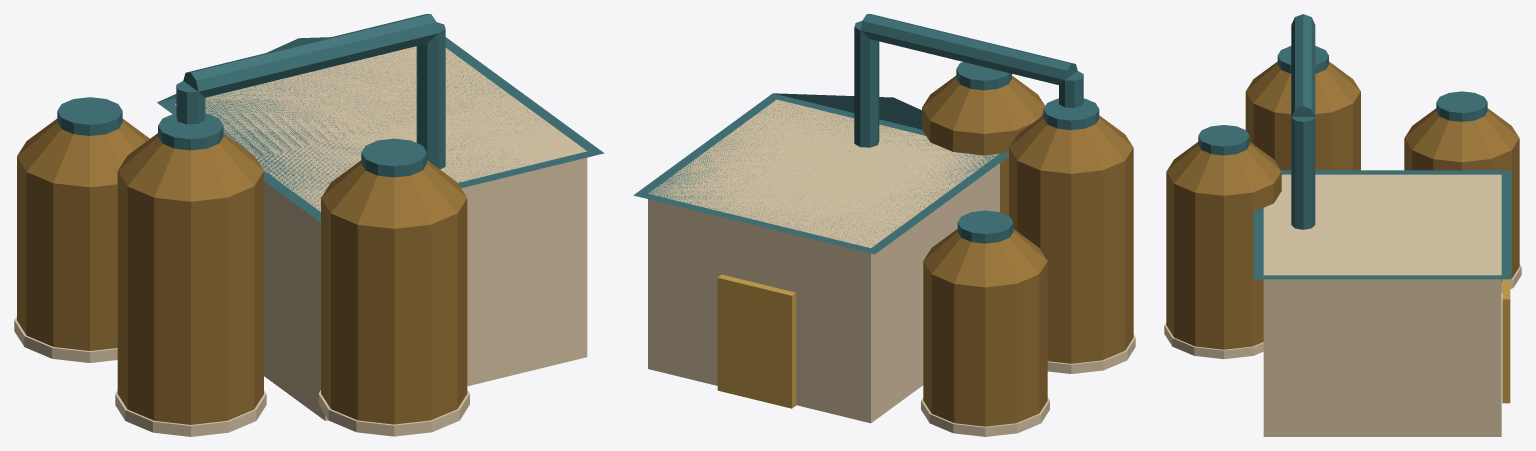
3 renders of one model, left to right at view 1: azimuth 30°, elevation 25°; view 2: azimuth 150°, elevation 25°; view 3: azimuth 270°, elevation 25°, orthographic. The views are drawn at different scales.
Parts seen in each view (by area): view 1: Brewery; view 2: Brewery; view 3: Brewery.
Boxes of the visible parts, box(x1,y1,x2,y2) form: Brewery: box(14, 14, 603, 436); Brewery: box(633, 14, 1135, 436); Brewery: box(1164, 14, 1521, 436).
Bounding box in the file's own units: 10.25 × 7.8 × 9.
1 material, 1 textured.
